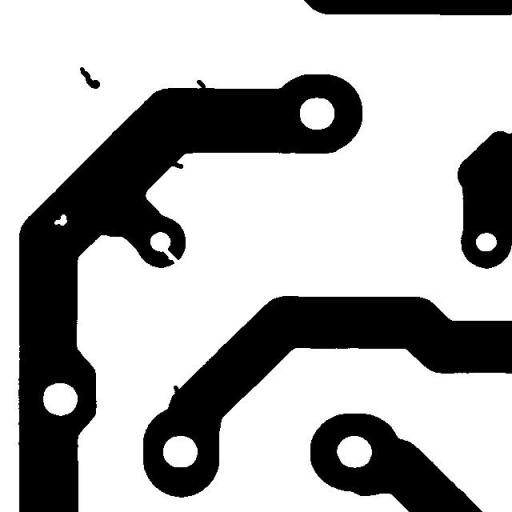copper: (72, 59, 107, 96)
open: (151, 240, 186, 271)
pin-hole: (46, 206, 74, 233)
spur: (164, 152, 190, 176), (189, 72, 213, 96), (166, 378, 190, 400)
